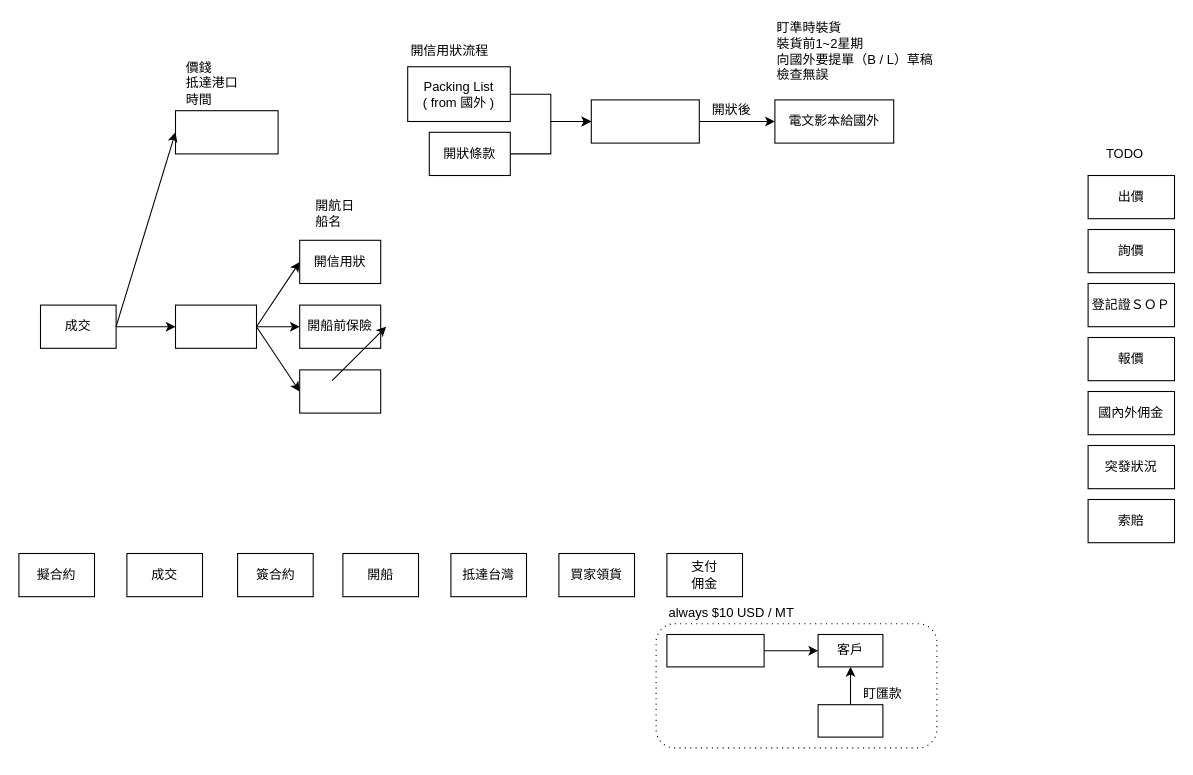
Image size: 1193x775. Some labels were removed from this diagram. The centre of each missing label's shape, as x and y in pixels:
"付款方式" belongs at [215,326].
"佣金協議書" belongs at [715,650].
"客戶 - 國外廠商 合約確認" belongs at [226,132].
"會計" belongs at [850,720].
"給買家安排開狀" belongs at [644,121].
"電匯" belongs at [340,391].
